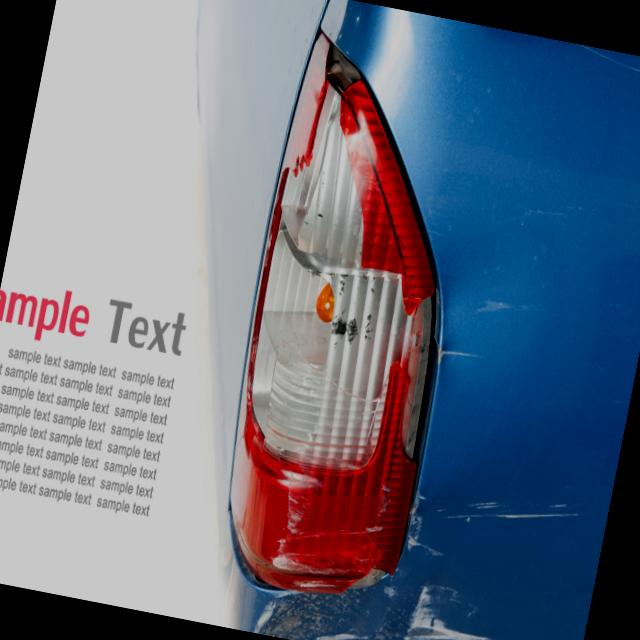Phare abime: (211, 42, 484, 565)
Rayure: (194, 449, 607, 640)
